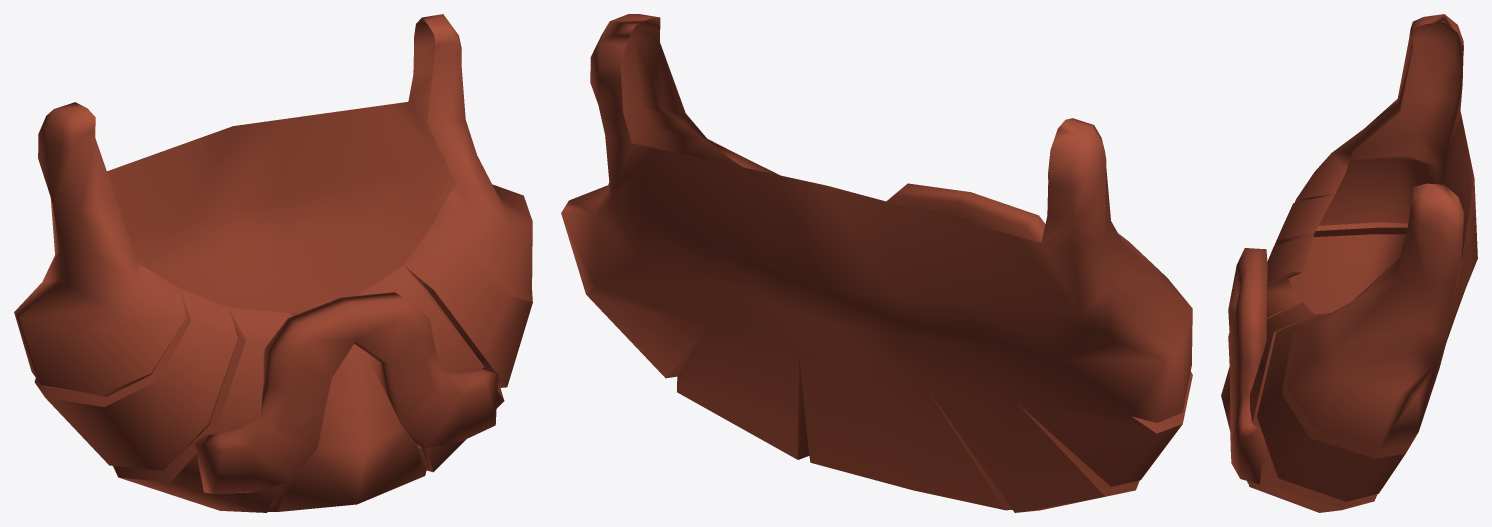
File: Beard_Brown_17.fbx
3 views of the same model, side by side, from view 1: azimuth 30°, elevation 25°; view 2: azimuth 150°, elevation 25°; view 3: azimuth 270°, elevation 25° (orthographic). The views are drawn at different scales.
Visible parts, largest first — view 1: Beard_Brown_17; view 2: Beard_Brown_17; view 3: Beard_Brown_17.
Part boxes in pixels (x1=…): Beard_Brown_17: x1=14, y1=14, x2=532, y2=512; Beard_Brown_17: x1=561, y1=14, x2=1192, y2=512; Beard_Brown_17: x1=1221, y1=14, x2=1477, y2=512.
Bounding box in the file's own units: 64.08 × 47.7 × 29.49.
